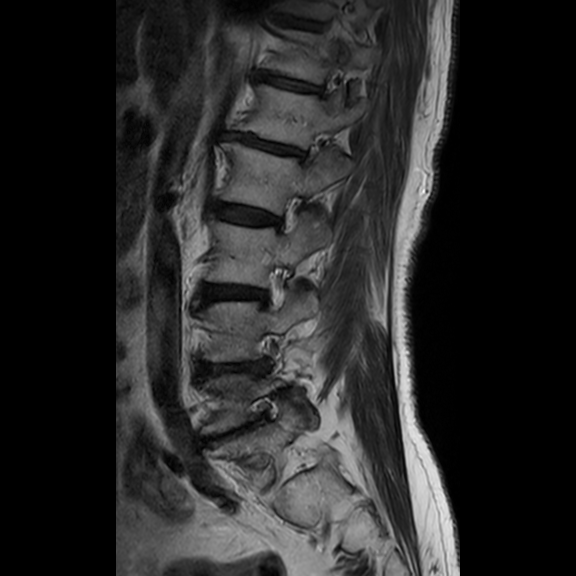RFS0: (251, 260, 294, 319), (264, 185, 307, 243)
